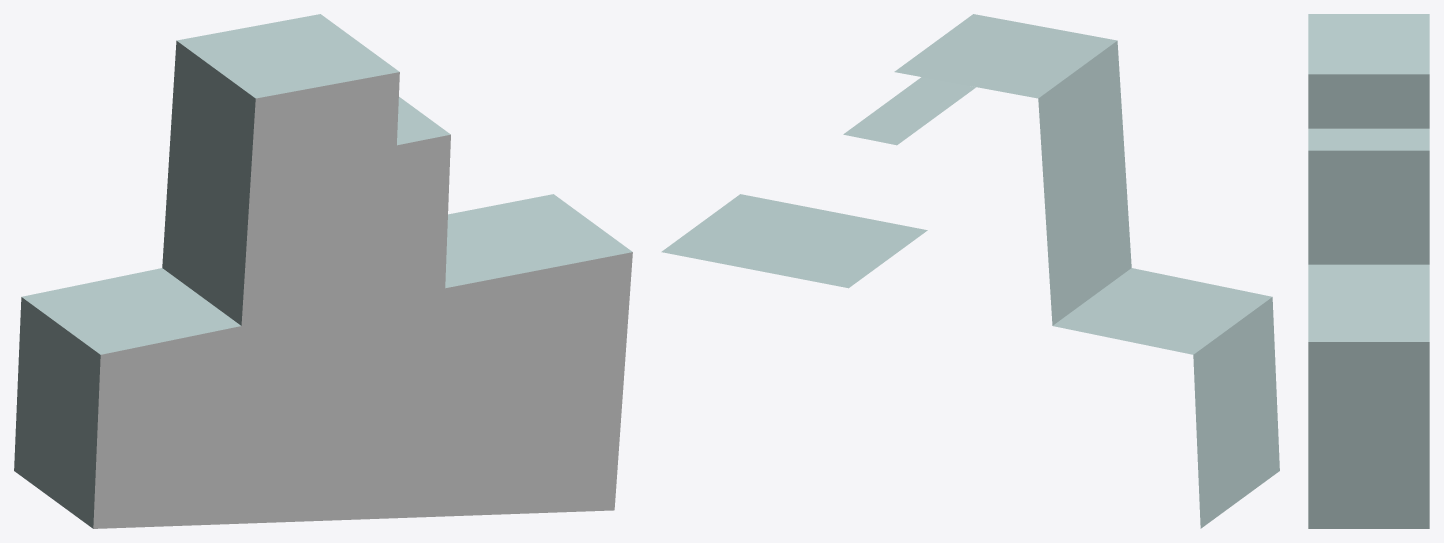
The picture shows the model from 3 angles, left to right: view 1: azimuth 30°, elevation 25°; view 2: azimuth 150°, elevation 25°; view 3: azimuth 270°, elevation 25°; orthographic projection. The views are drawn at different scales.
Visible parts, largest first — view 1: 0_0_2_0_2_0_1_1_3; view 2: 0_0_2_0_2_0_1_1_3; view 3: 0_0_2_0_2_0_1_1_3.
Boxes of the visible parts, x1=… form: 0_0_2_0_2_0_1_1_3: x1=14, y1=14, x2=632, y2=528; 0_0_2_0_2_0_1_1_3: x1=661, y1=14, x2=1279, y2=528; 0_0_2_0_2_0_1_1_3: x1=1308, y1=14, x2=1429, y2=528.
Size of the model in its own units: 11.79 by 10.43 by 3.
